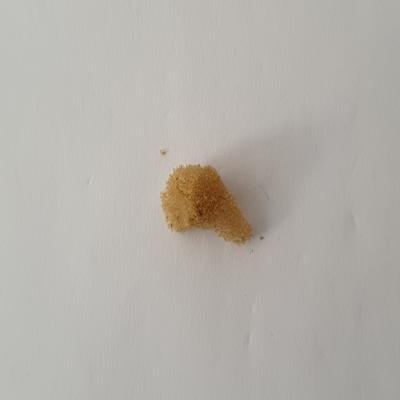plastic: (154, 156, 258, 252)
